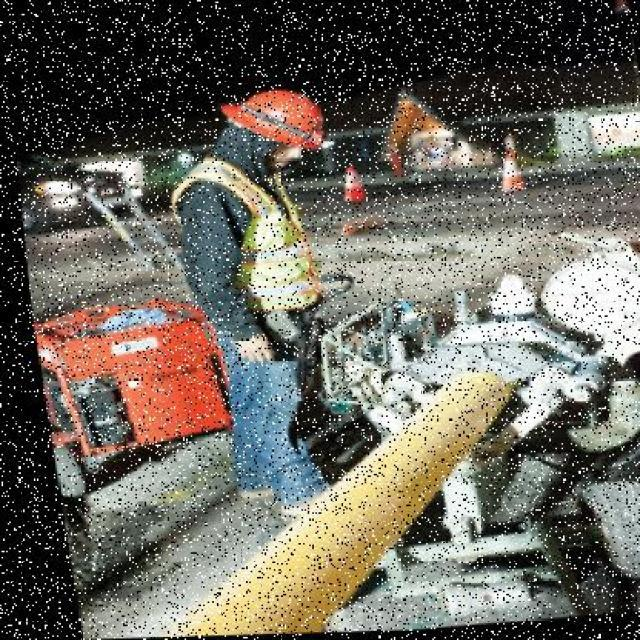helmet: (216, 83, 345, 157)
vest: (191, 154, 326, 323)
